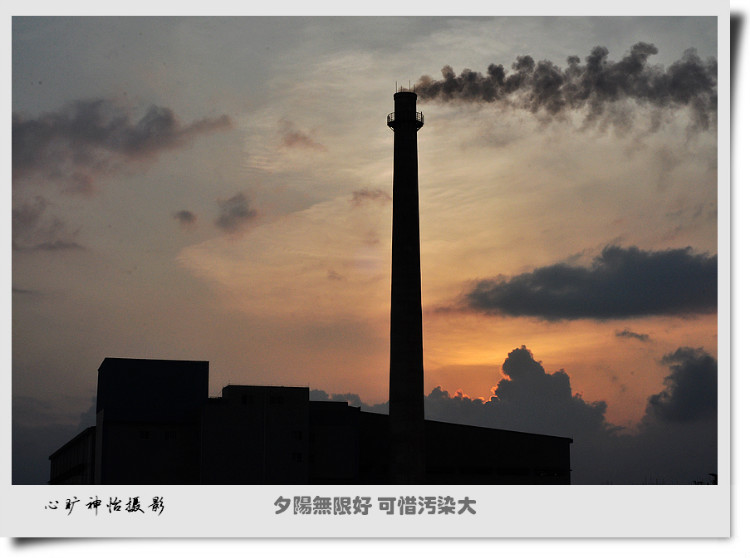dust: (390, 39, 670, 121)
